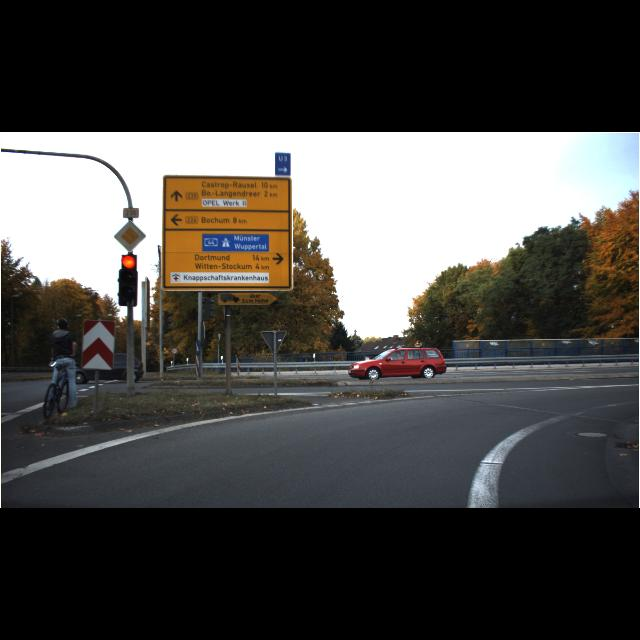other: (114, 220, 146, 252)
